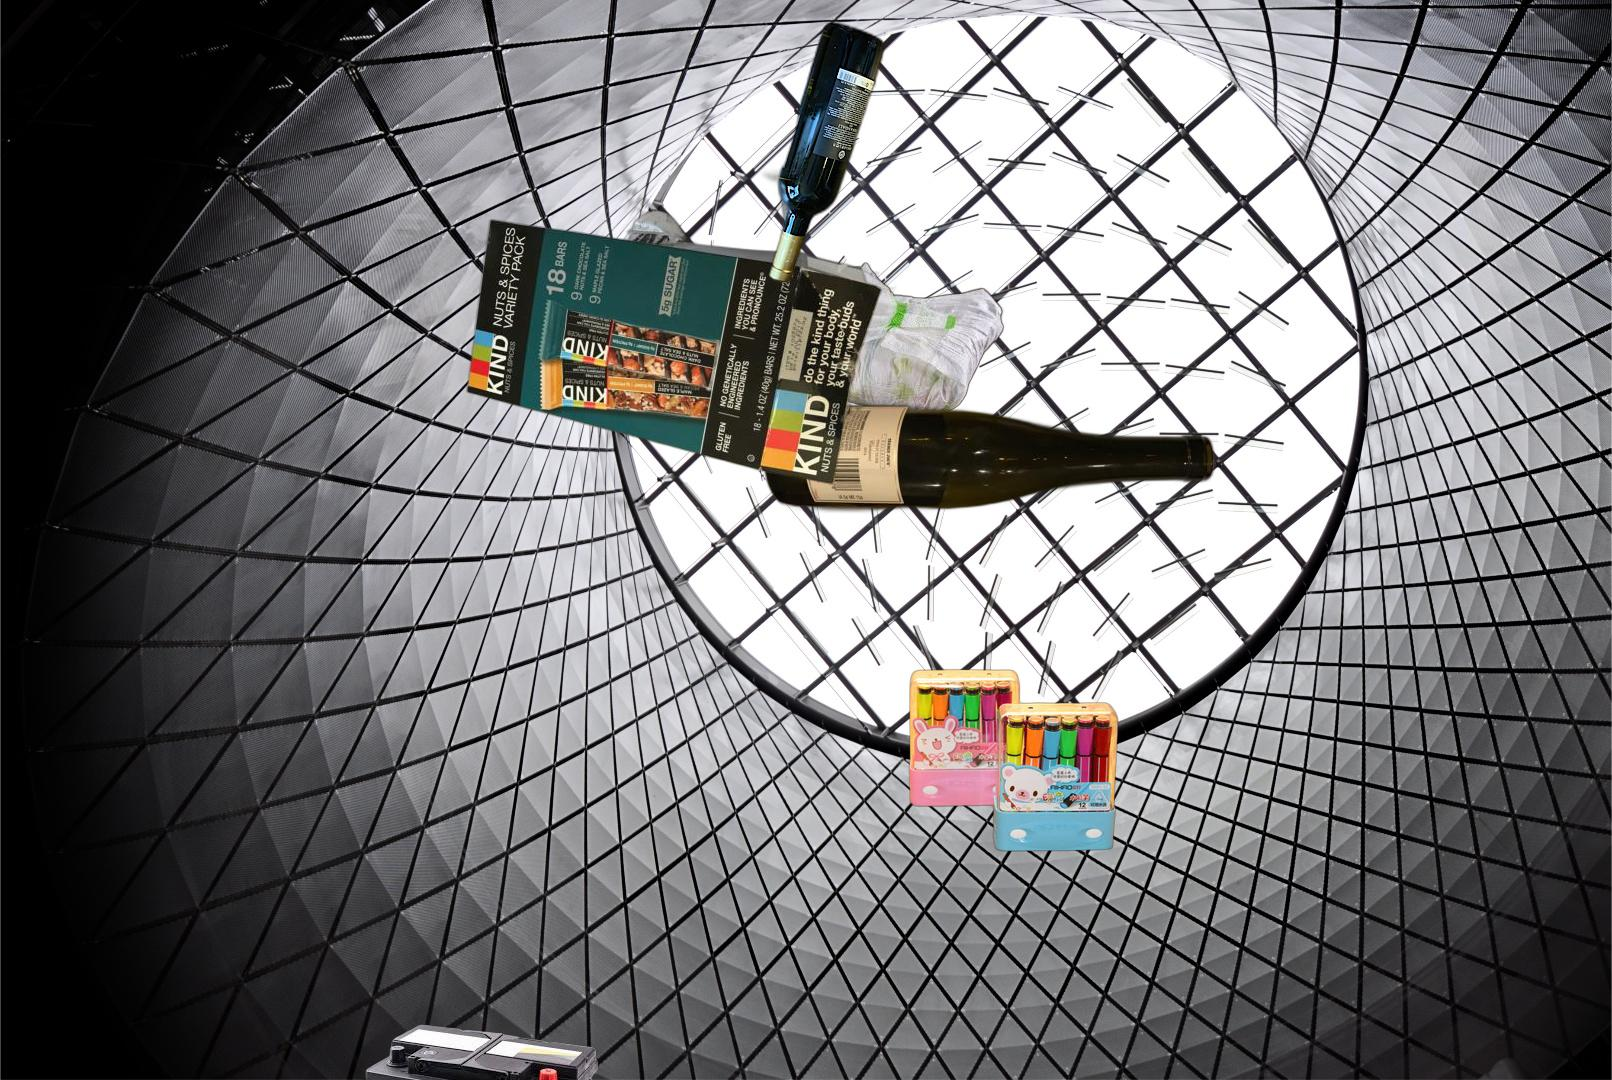battery: (363, 1022, 601, 1080)
glass: (760, 254, 1257, 515), (755, 16, 889, 288)
paper: (461, 207, 886, 487)
penholder: (906, 667, 1120, 855)
trash: (788, 260, 1007, 419)
